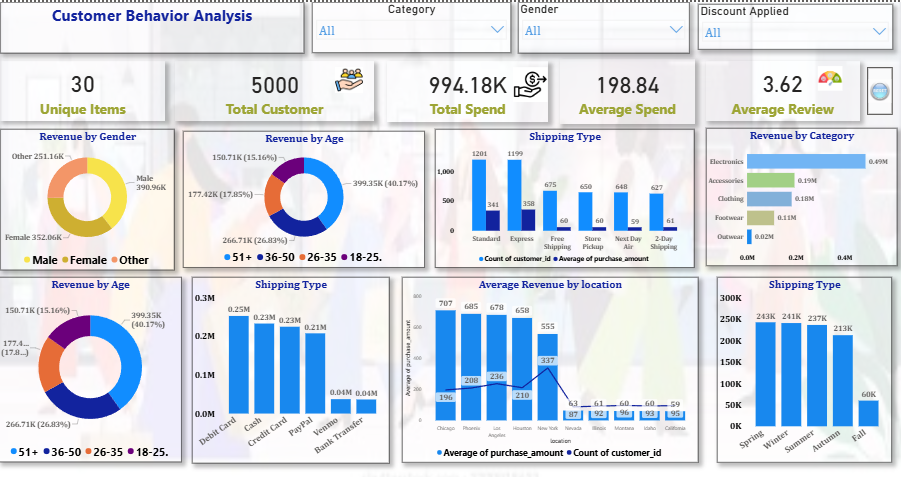

The page's visual inventory and layout, read from the dashboard file:
{"tool":"powerbi","page":{"name":"Dashboard1","canvas":[2200,1200],"ordinal":0},"visuals":[{"type":"card","fields":{"Values":["customer_behavior_analysis.Unique Items"]},"box":[2.1,142.6,402.7,144.7],"z":0},{"type":"clusteredColumnChart","title":"Shipping Type","fields":{"Category":["customer_behavior_analysis.shipping_type"],"Y":["CountNonNull(customer_behavior_analysis.customer_id)","Avg(customer_behavior_analysis.purchase_amount)"]},"box":[1063.3,310.4,632.4,337.9],"z":1000,"group":"g4"},{"type":"donutChart","title":"Revenue by Age","fields":{"Y":["Sum(customer_behavior_analysis.purchase_amount)"],"Category":["customer_behavior_analysis.age (groups)"]},"box":[447.7,313.6,589.3,333.5],"z":1000,"group":"g3"},{"type":"clusteredColumnChart","title":"Shipping Type","fields":{"Y":["Sum(customer_behavior_analysis.purchase_amount)"],"Category":["customer_behavior_analysis.payment_method"]},"box":[471.3,670.8,481.1,453.7],"z":1000,"group":"g5"},{"type":"clusteredColumnChart","title":"Shipping Type","fields":{"Category":["customer_behavior_analysis.season"],"Y":["Sum(customer_behavior_analysis.purchase_amount)"]},"box":[1750.2,670.8,426.3,451.7],"z":1000},{"type":"barChart","title":"Revenue by Category","fields":{"Category":["customer_behavior_analysis.category"],"Y":["Sum(customer_behavior_analysis.purchase_amount)"]},"box":[1722.2,305.8,465.6,335.6],"z":2000,"group":"g2"},{"type":"group","id":"g1","title":"Group 1","box":[2.1,310.4,423.6,343.9],"z":2000},{"type":"donutChart","title":"Revenue by Gender","fields":{"Category":["customer_behavior_analysis.gender"],"Y":["Sum(customer_behavior_analysis.purchase_amount)"]},"box":[2.1,310.4,425.3,344.3],"z":2000,"group":"g1"},{"type":"group","id":"g2","title":"Group 1","box":[1722.2,305.8,465.6,335.6],"z":3000},{"type":"group","id":"g3","title":"Group 1","box":[447.7,313.6,589.3,333.5],"z":4000},{"type":"donutChart","title":"Revenue by Age","fields":{"Y":["Sum(customer_behavior_analysis.purchase_amount)"],"Category":["customer_behavior_analysis.age (groups)"]},"box":[0,671.1,444.6,450.9],"z":4000,"group":"g7"},{"type":"group","id":"g4","title":"Group 1","box":[1063.3,310.4,633.4,337.7],"z":5000},{"type":"group","id":"g5","title":"Group 1","box":[471.3,670.8,481.1,453.7],"z":6000},{"type":"card","fields":{"Values":["customer_behavior_analysis.Total Customer"]},"box":[427.8,142.6,484.5,146.8],"z":7000,"group":"g8"},{"type":"card","fields":{"Values":["customer_behavior_analysis.Total Spend"]},"box":[944.5,144.7,393.1,148.6],"z":7000},{"type":"card","fields":{"Values":["customer_behavior_analysis.Average Spend"]},"box":[1366.9,138.8,328.5,158.4],"z":8000},{"type":"group","id":"g6","title":"Group 2","box":[981.7,670.8,721.6,451.7],"z":9000},{"type":"group","id":"g7","title":"Group 3","box":[0,671.1,444.6,450.9],"z":10000},{"type":"textbox","box":[2,0,741.2,125.2],"z":11000},{"type":"lineClusteredColumnComboChart","title":"Average Revenue by location","fields":{"Category":["customer_behavior_analysis.location"],"Y":["Avg(customer_behavior_analysis.purchase_amount)"],"Y2":["CountNonNull(customer_behavior_analysis.customer_id)"]},"box":[981.7,670.8,721.6,451.7],"z":11000,"group":"g6"},{"type":"group","id":"g8","title":"Group 4","box":[427.8,142.6,484.5,146.8],"z":12000},{"type":"image","box":[1247.9,142.6,94.4,115.3],"z":13000},{"type":"group","id":"g9","title":"Group 5","box":[1722.8,144.7,373.5,144.7],"z":14000},{"type":"slicer","title":"Category","fields":{"Values":["customer_behavior_analysis.category"]},"box":[762.6,0,484.8,124.3],"z":15000},{"type":"image","box":[811.6,153.1,77.6,73.4],"z":15000,"group":"g8"},{"type":"image","box":[1975.4,152.4,97.8,70.4],"z":15500,"group":"g9"},{"type":"slicer","title":"Gender","fields":{"Values":["customer_behavior_analysis.gender"]},"box":[1265.2,0,418.5,125.2],"z":16000},{"type":"card","fields":{"Values":["customer_behavior_analysis.Average Review"]},"box":[1722.8,144.7,373.5,144.7],"z":16000,"group":"g9"},{"type":"slicer","title":"Discount Applied","fields":{"Values":["customer_behavior_analysis.discount_applied"]},"box":[1703.3,5.9,475.2,111.5],"z":17000},{"type":"actionButton","box":[2114.6,159.6,62.9,116.9],"z":18000}]}

Visuals, with their boxes on the page's 2200x1200 design canvas (x1, y1, x2, y2). These are canvas units, not pixel positions in the 901x477 screenshot, which may show the page scaled, cropped or inside an application window:
card - customer_behavior_analysis.Unique Items: left=2, top=143, right=405, bottom=287
"Shipping Type" clusteredColumnChart: left=1063, top=310, right=1696, bottom=648
"Revenue by Age" donutChart: left=448, top=314, right=1037, bottom=647
"Shipping Type" clusteredColumnChart: left=471, top=671, right=952, bottom=1124
"Shipping Type" clusteredColumnChart: left=1750, top=671, right=2176, bottom=1122
"Revenue by Category" barChart: left=1722, top=306, right=2188, bottom=641
"Group 1" group: left=2, top=310, right=426, bottom=654
"Revenue by Gender" donutChart: left=2, top=310, right=427, bottom=655
"Group 1" group: left=1722, top=306, right=2188, bottom=641
"Group 1" group: left=448, top=314, right=1037, bottom=647
"Revenue by Age" donutChart: left=0, top=671, right=445, bottom=1122
"Group 1" group: left=1063, top=310, right=1697, bottom=648
"Group 1" group: left=471, top=671, right=952, bottom=1124
card - customer_behavior_analysis.Total Customer: left=428, top=143, right=912, bottom=289
card - customer_behavior_analysis.Total Spend: left=944, top=145, right=1338, bottom=293
card - customer_behavior_analysis.Average Spend: left=1367, top=139, right=1695, bottom=297
"Group 2" group: left=982, top=671, right=1703, bottom=1122
"Group 3" group: left=0, top=671, right=445, bottom=1122
textbox: left=2, top=0, right=743, bottom=125
"Average Revenue by location" lineClusteredColumnComboChart: left=982, top=671, right=1703, bottom=1122
"Group 4" group: left=428, top=143, right=912, bottom=289
image: left=1248, top=143, right=1342, bottom=258
"Group 5" group: left=1723, top=145, right=2096, bottom=289
"Category" slicer: left=763, top=0, right=1247, bottom=124
image: left=812, top=153, right=889, bottom=226
image: left=1975, top=152, right=2073, bottom=223
"Gender" slicer: left=1265, top=0, right=1684, bottom=125
card - customer_behavior_analysis.Average Review: left=1723, top=145, right=2096, bottom=289
"Discount Applied" slicer: left=1703, top=6, right=2178, bottom=117
actionButton: left=2115, top=160, right=2178, bottom=276
